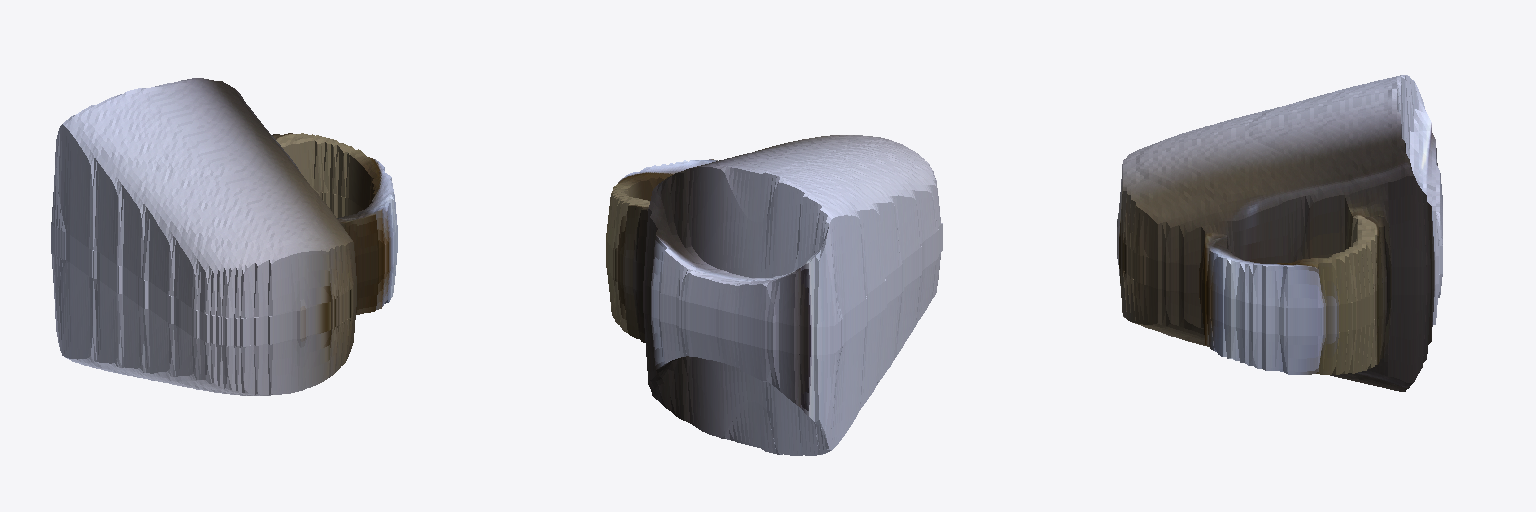
3 renders of one model, left to right at view 1: azimuth 30°, elevation 25°; view 2: azimuth 150°, elevation 25°; view 3: azimuth 270°, elevation 25°, orthographic.
Parts seen in each view (by area): view 1: Grid; view 2: Grid; view 3: Grid.
Part boxes in pixels (bbox=[...]): Grid: bbox=[51, 78, 397, 395]; Grid: bbox=[606, 135, 942, 455]; Grid: bbox=[1117, 75, 1442, 391].
Bounding box in the file's own units: 1.43 × 1.4 × 1.49.
Materials: 2 (1 with a texture image).